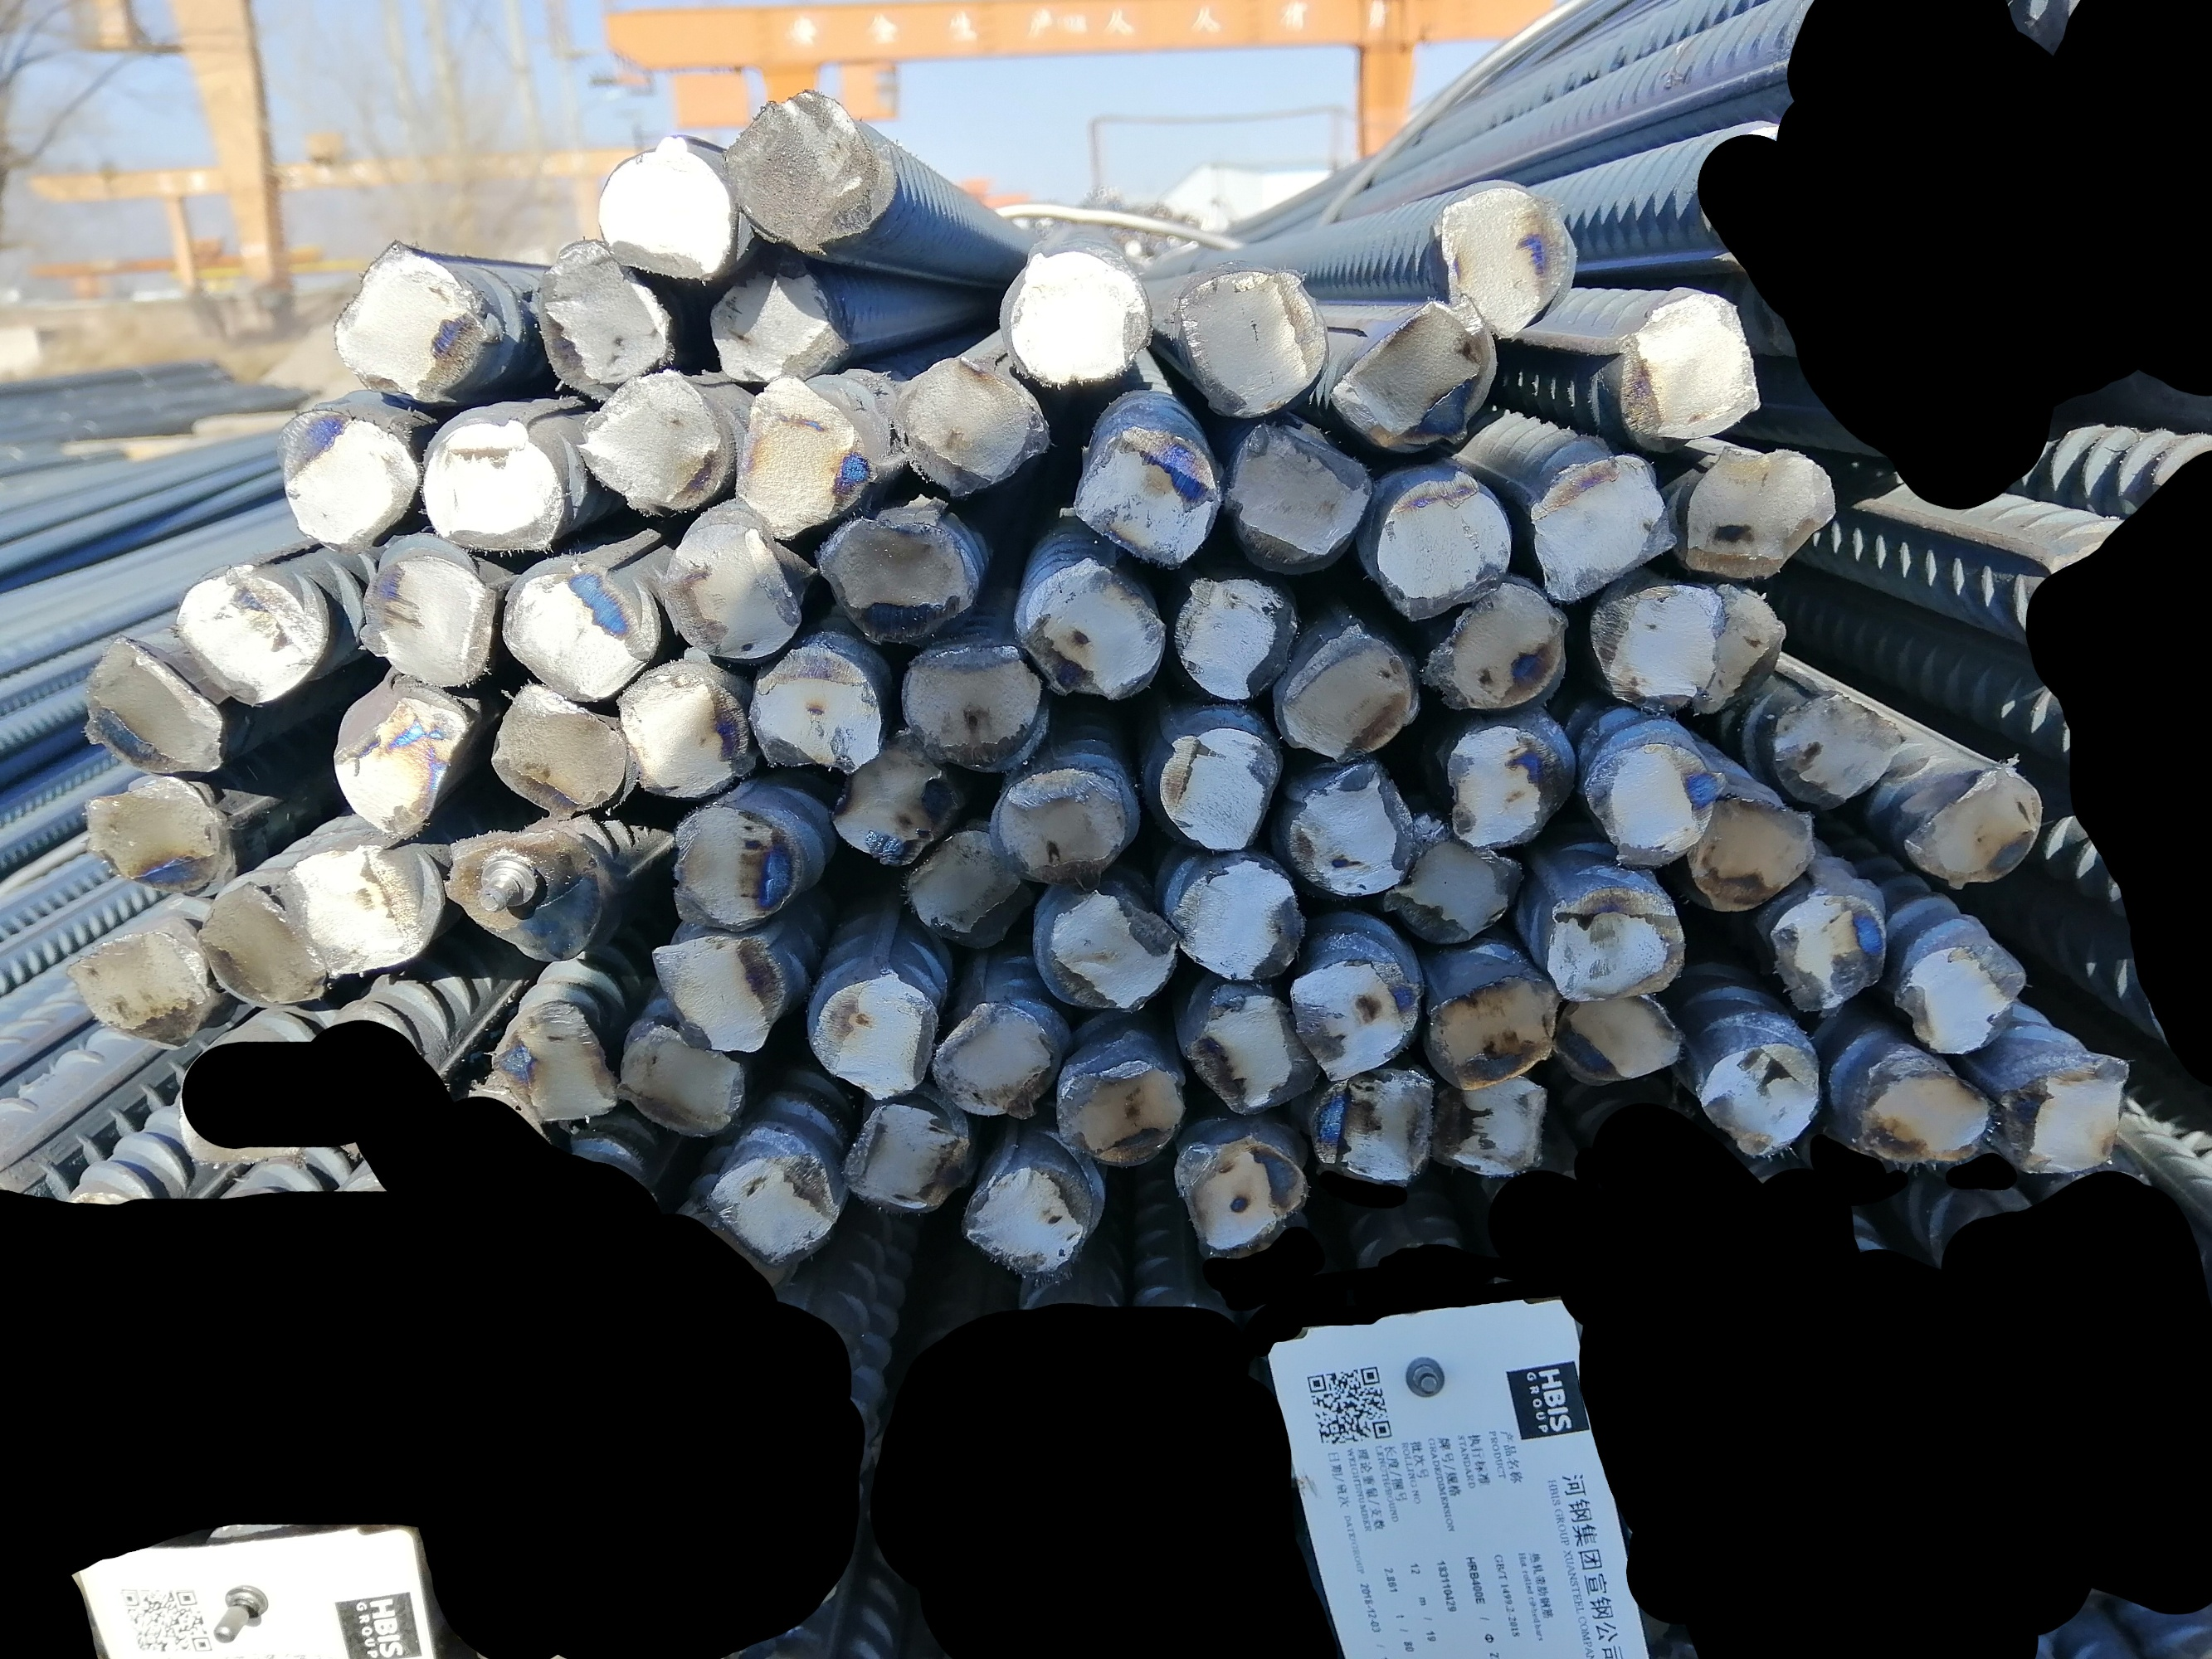rebar: (328, 240, 492, 406), (720, 94, 884, 253), (1515, 446, 1673, 603), (1339, 300, 1503, 451), (1171, 261, 1325, 422), (1433, 185, 1584, 345), (725, 385, 877, 544), (1614, 286, 1766, 444), (328, 678, 476, 840), (525, 239, 675, 396), (570, 366, 722, 519), (1367, 471, 1515, 624), (506, 552, 652, 706), (267, 404, 422, 549), (77, 633, 232, 775), (1222, 416, 1372, 563), (598, 136, 743, 288), (282, 840, 438, 981), (818, 511, 974, 650), (446, 828, 608, 962), (1018, 554, 1161, 704), (415, 418, 570, 556), (1004, 246, 1152, 389), (891, 361, 1044, 498), (906, 631, 1051, 775), (614, 659, 758, 802), (181, 570, 326, 711), (666, 516, 804, 664), (950, 1140, 1091, 1283), (1274, 613, 1410, 762), (1075, 418, 1210, 568), (77, 775, 234, 903), (359, 551, 500, 692), (1898, 756, 2052, 885), (486, 678, 626, 819), (1431, 577, 1571, 718), (1686, 448, 1834, 580), (1164, 1134, 1318, 1260), (1581, 582, 1727, 713), (1288, 758, 1417, 904), (1684, 793, 1830, 922), (899, 821, 1035, 958), (987, 760, 1137, 884), (1381, 817, 1530, 941), (704, 265, 847, 394), (1546, 878, 1687, 1006), (1421, 971, 1565, 1094), (1579, 744, 1727, 864), (844, 1089, 973, 1227), (828, 748, 967, 875), (488, 995, 622, 1126), (1187, 986, 1321, 1117), (1445, 718, 1579, 849), (1768, 880, 1896, 1016), (1171, 861, 1309, 988), (64, 925, 206, 1049), (617, 1016, 753, 1143), (1035, 889, 1177, 1011), (190, 880, 321, 1011), (755, 641, 884, 774), (2003, 1054, 2135, 1182), (666, 802, 800, 927), (1145, 728, 1279, 854), (647, 934, 784, 1056), (812, 976, 943, 1103), (1283, 951, 1410, 1082), (1168, 572, 1299, 699), (704, 1147, 842, 1267), (929, 995, 1056, 1124), (1764, 695, 1912, 803), (1893, 932, 2020, 1058), (1856, 1060, 1999, 1171), (1055, 1054, 1187, 1171), (1309, 1065, 1435, 1187), (1700, 1037, 1823, 1157), (1551, 981, 1684, 1087), (1687, 584, 1792, 718), (1429, 1072, 1553, 1178)
